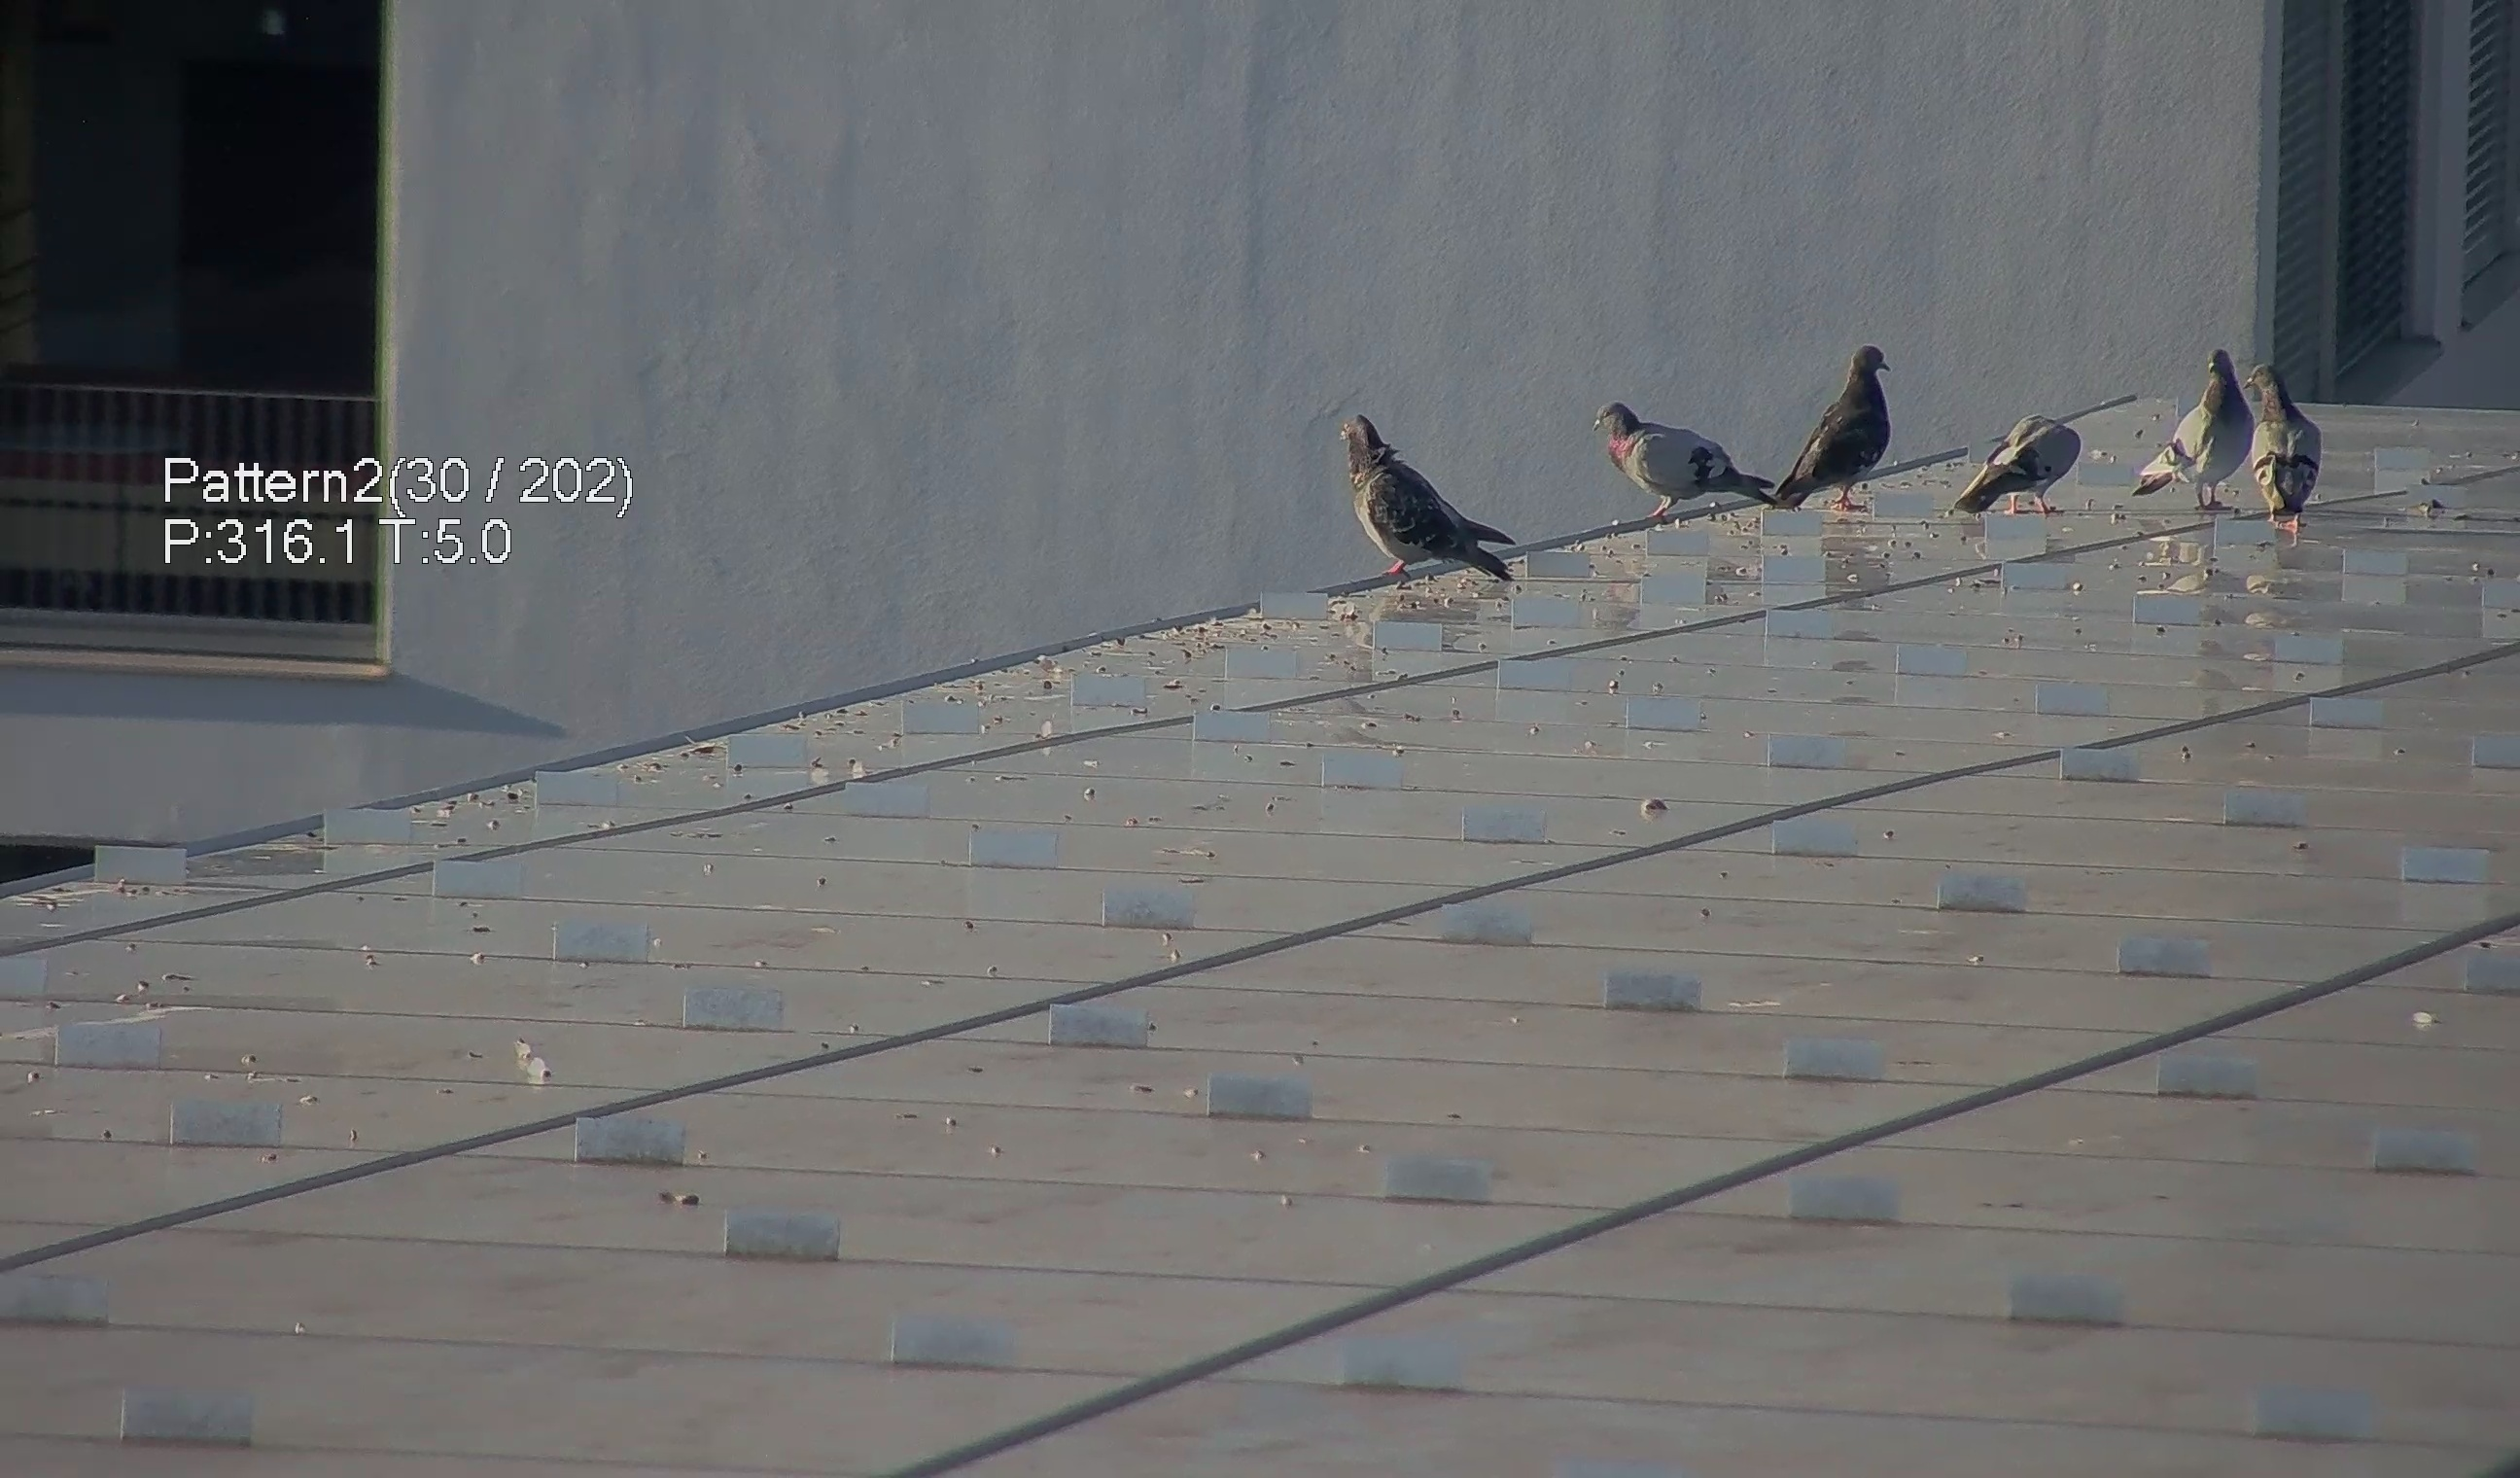Pigeon: (1326, 405, 1530, 602), (1595, 391, 1804, 521), (1771, 331, 1912, 510), (2121, 347, 2260, 524), (1957, 394, 2108, 519), (2232, 345, 2334, 523)
